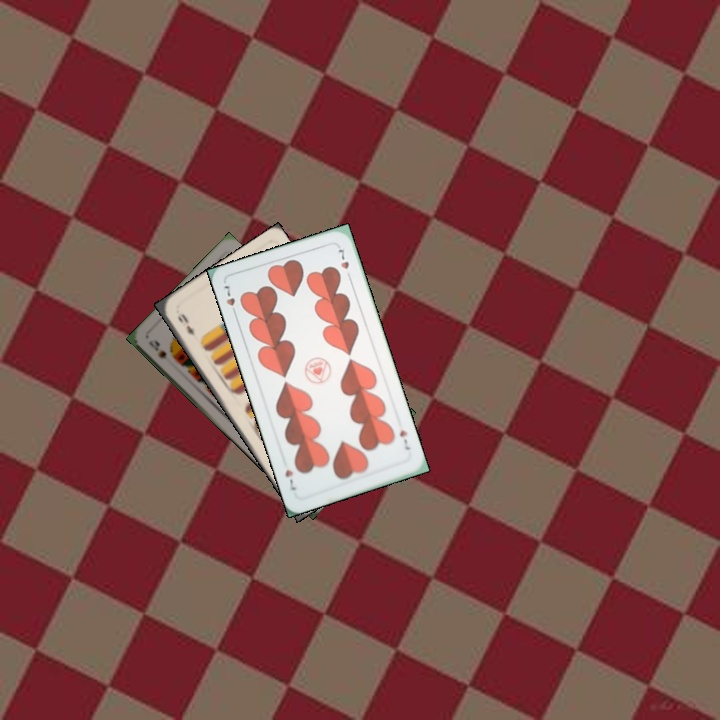E9: (173, 309, 197, 339)
H7: (219, 281, 240, 319), (395, 426, 412, 453)
S9: (145, 336, 170, 362)
